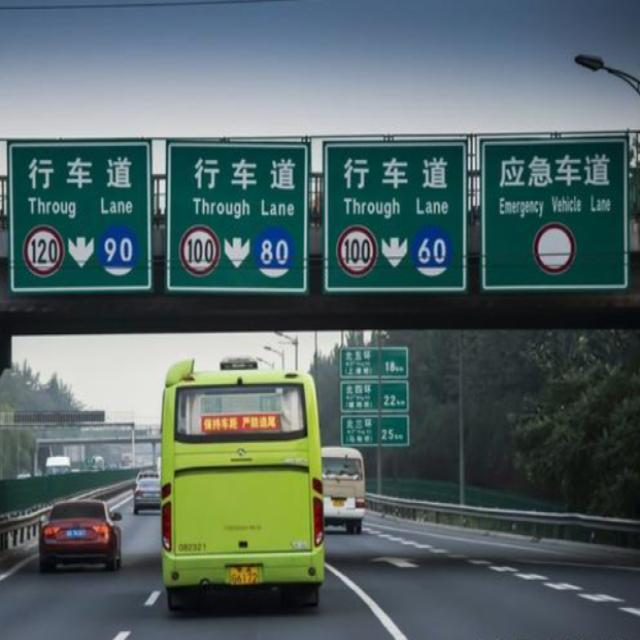speed limit 100: (336, 224, 378, 280), (179, 224, 221, 277)
speed limit 120: (22, 224, 65, 278)
speed limit 60: (411, 227, 453, 280)
speed limit 80: (254, 227, 296, 279)
speed limit 90: (98, 226, 139, 276)
